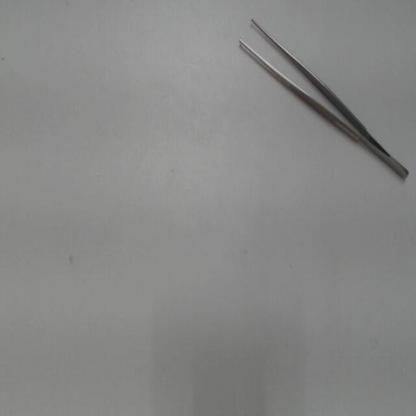Gillies Toothed Dissector: (232, 9, 412, 184)
